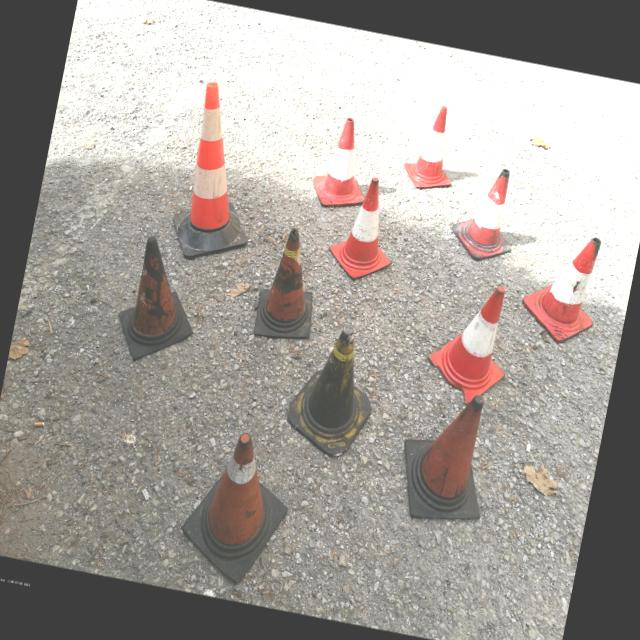large_orange_cone: (166, 80, 276, 269)
orange_cone: (421, 275, 522, 411), (516, 226, 609, 349), (324, 172, 408, 285), (446, 161, 526, 266), (308, 113, 379, 214), (400, 100, 466, 194)
unknown_cone: (173, 424, 301, 590), (390, 383, 503, 530), (281, 316, 386, 464), (110, 233, 210, 370), (252, 225, 330, 345)
